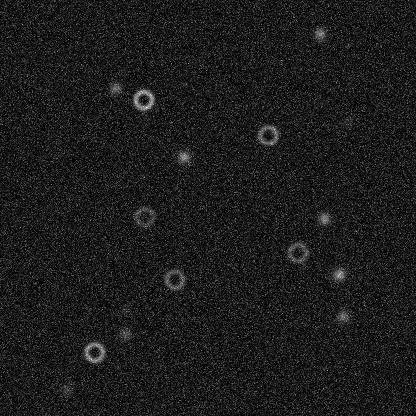Ring: (256, 123, 280, 147), (285, 240, 309, 264), (82, 340, 106, 364), (132, 204, 156, 228), (131, 87, 155, 111), (162, 267, 186, 291)
Spot: (339, 114, 355, 130), (107, 80, 123, 96), (330, 266, 346, 282), (175, 148, 191, 164), (312, 25, 328, 41), (315, 210, 331, 226), (58, 381, 74, 397), (117, 325, 133, 341), (117, 302, 133, 318), (334, 308, 350, 324)
